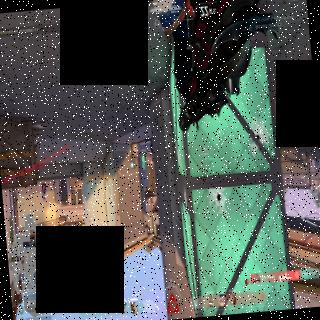ENEMY-BODY: (40, 179, 49, 204), (148, 140, 155, 170)
ENEMY-HEAD: (44, 198, 46, 202)
